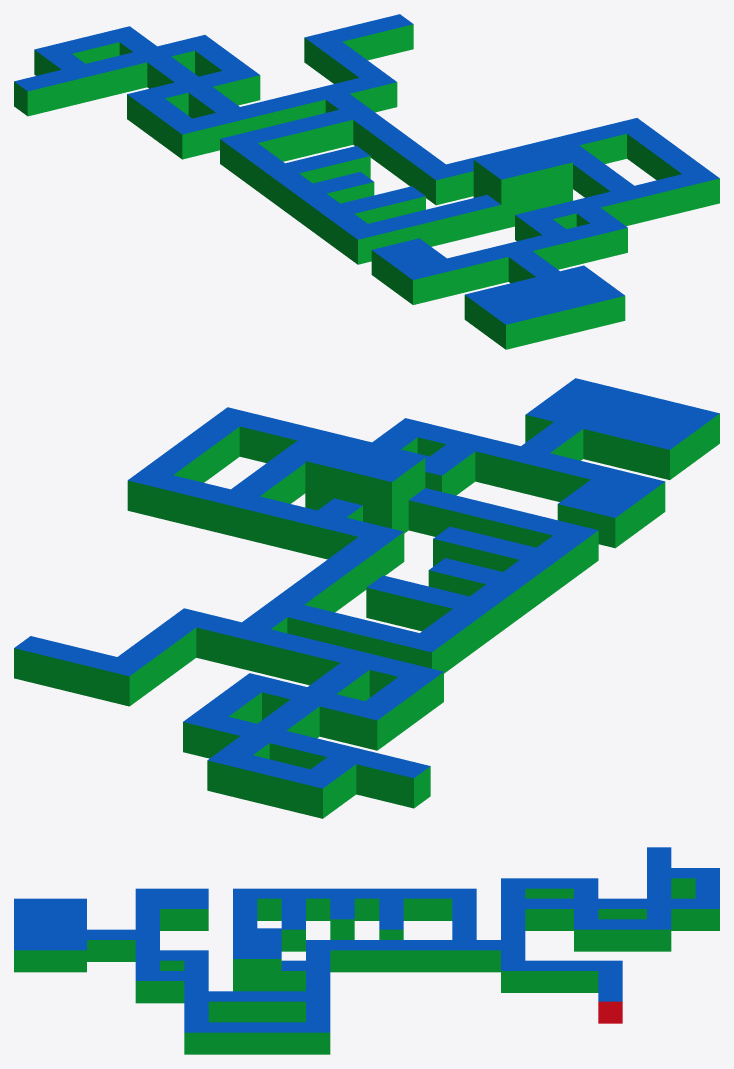
Rendered from Level_one.fbx.
The picture shows the model from 3 angles, top to bottom: view 1: azimuth 30°, elevation 25°; view 2: azimuth 150°, elevation 25°; view 3: azimuth 270°, elevation 25°; orthographic projection. The views are drawn at different scales.
Parts seen in each view (by area): view 1: Plane_375, Plane_187, Plane_489, Plane_488, Plane_301, Plane_487, Plane_456, Plane_450, Plane_298, Plane_022, Plane_490, Plane_250 (+25 smaller); view 2: Plane_522, Plane_040, Plane_662, Plane_509, Plane_392, Plane_357, Plane_042, Plane_019, Plane_463, Plane_016, Plane_661, Plane_462 (+26 smaller); view 3: Plane_369, Plane_314, Plane_501, Plane_366, Plane_387, Plane_059, Plane_311, Plane_267, Plane_032, Plane_189, Plane_500, Plane_499 (+37 smaller).
Part boxes in pixels (x1,y1,x2,y2): Plane_375: (305, 125, 329, 156); Plane_187: (577, 301, 601, 332); Plane_489: (51, 80, 75, 110); Plane_488: (99, 68, 123, 98); Plane_301: (477, 205, 501, 235); Plane_487: (123, 62, 147, 92); Plane_456: (373, 82, 397, 112); Plane_450: (236, 75, 260, 105); Plane_298: (453, 211, 477, 241); Plane_022: (580, 233, 604, 264); Plane_490: (75, 74, 99, 104); Plane_250: (648, 190, 672, 220); Plane_522: (305, 461, 334, 497); Plane_040: (185, 494, 214, 531); Plane_662: (319, 706, 348, 743); Plane_509: (207, 760, 236, 797); Plane_392: (196, 627, 225, 664); Plane_357: (366, 587, 395, 624); Plane_042: (156, 487, 185, 524); Plane_019: (475, 451, 504, 488); Plane_463: (100, 669, 129, 706); Plane_016: (504, 458, 533, 495); Plane_661: (348, 713, 377, 750); Plane_462: (71, 662, 100, 699); Plane_369: (354, 950, 379, 972); Plane_314: (354, 898, 379, 920); Plane_501: (598, 929, 622, 951); Plane_366: (379, 950, 403, 972); Plane_387: (452, 950, 476, 972); Plane_059: (330, 950, 354, 972); Plane_311: (257, 898, 281, 920); Plane_267: (184, 1032, 208, 1054); Plane_032: (257, 1032, 281, 1054); Plane_189: (38, 950, 62, 972); Plane_500: (574, 929, 598, 951); Plane_499: (622, 929, 646, 951).
Size of the model in its own units: 180 by 20 by 290.
